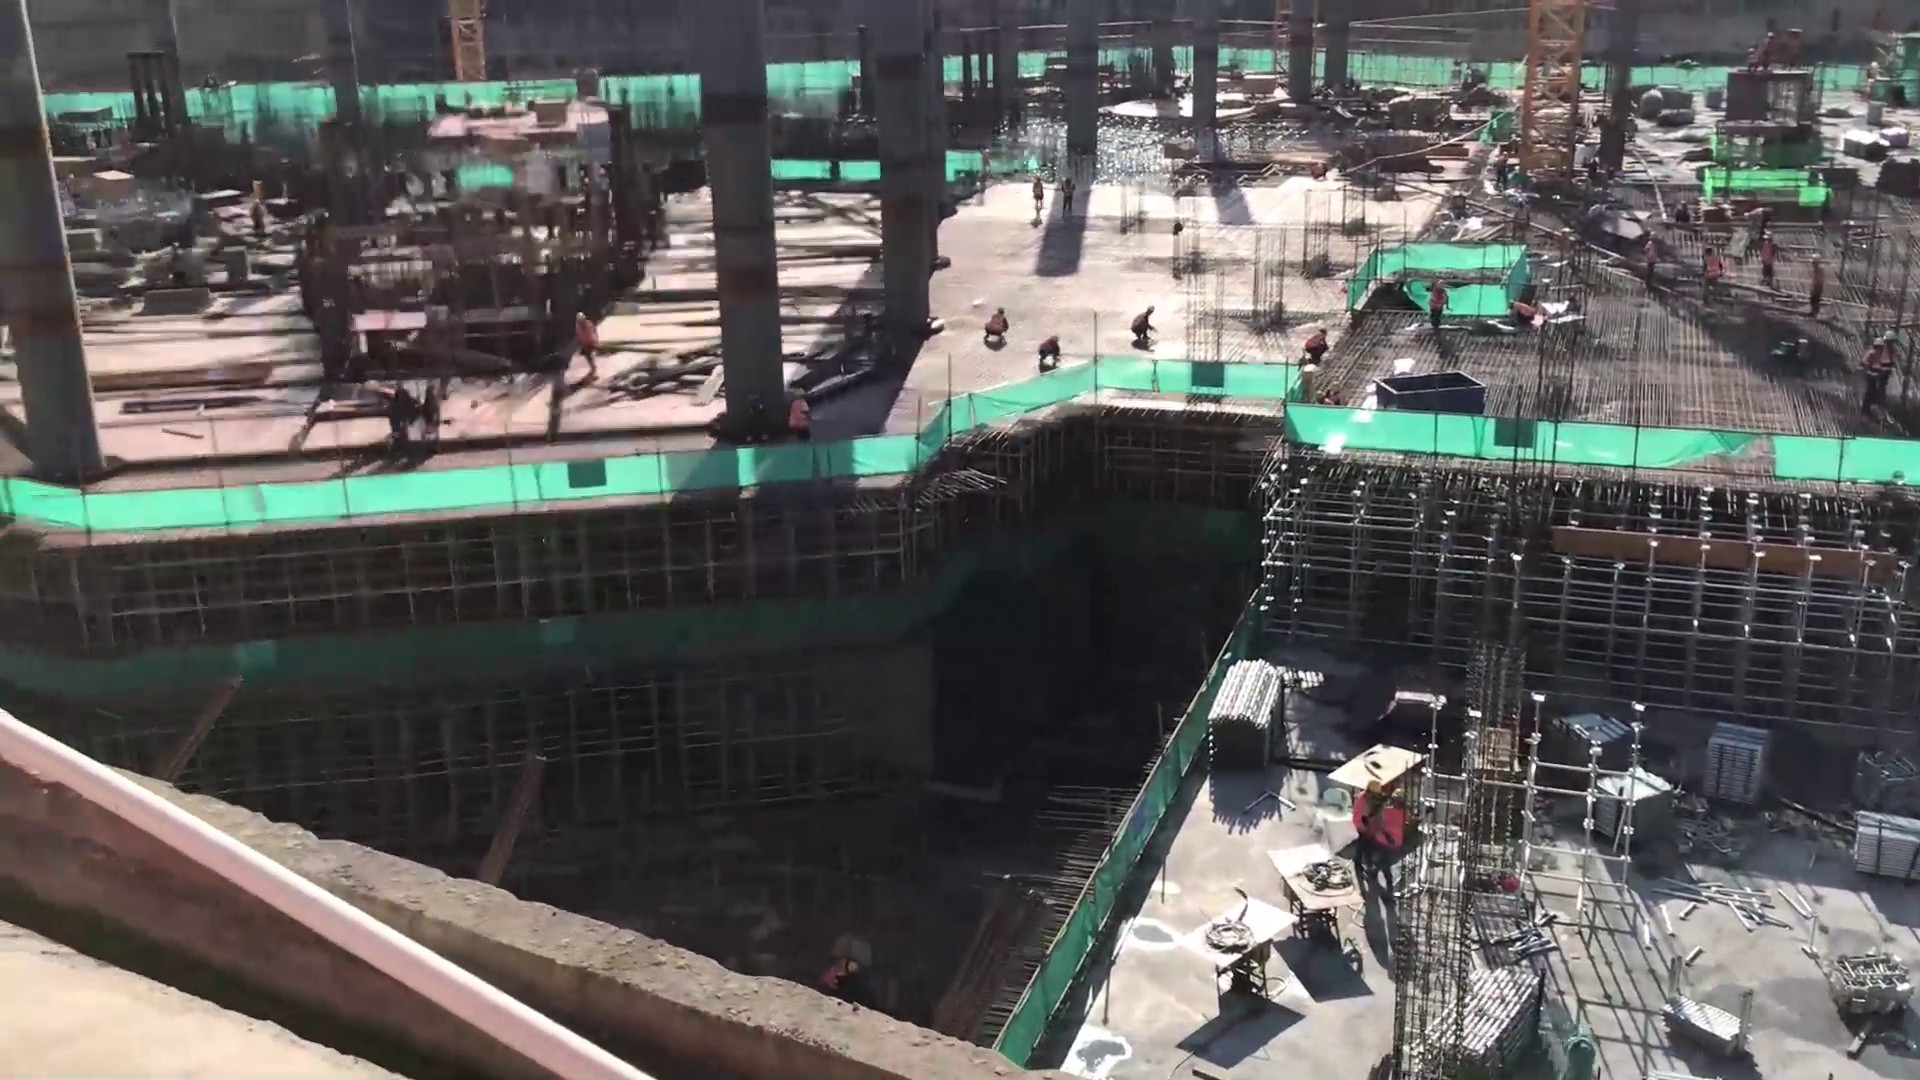person: (1376, 786, 1409, 898), (1350, 780, 1384, 879), (570, 309, 602, 378), (1130, 304, 1159, 350), (1424, 279, 1450, 329), (788, 386, 812, 440), (982, 303, 1008, 344), (1304, 327, 1330, 364), (1037, 333, 1060, 371), (1507, 300, 1536, 326), (1514, 199, 1530, 243), (1061, 177, 1077, 213), (1495, 149, 1507, 189), (1034, 176, 1043, 212)
scaffold: (1444, 964, 1540, 1074), (1700, 719, 1766, 804), (1598, 766, 1671, 841), (1851, 810, 1920, 880)
